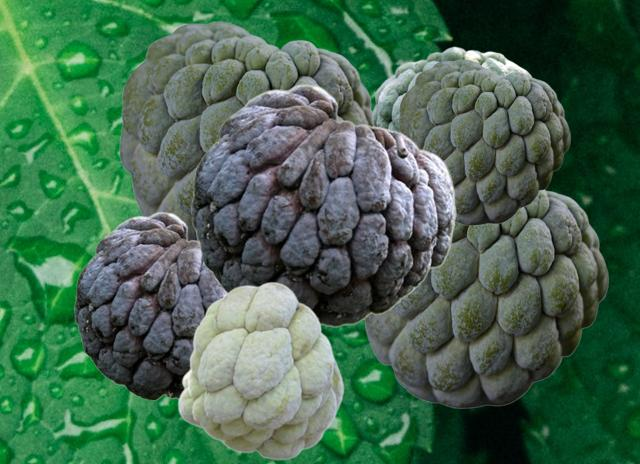atis: (191, 83, 455, 326), (119, 21, 373, 239), (363, 190, 607, 407), (177, 281, 343, 459), (74, 211, 225, 399), (398, 59, 569, 224), (371, 46, 532, 210)
